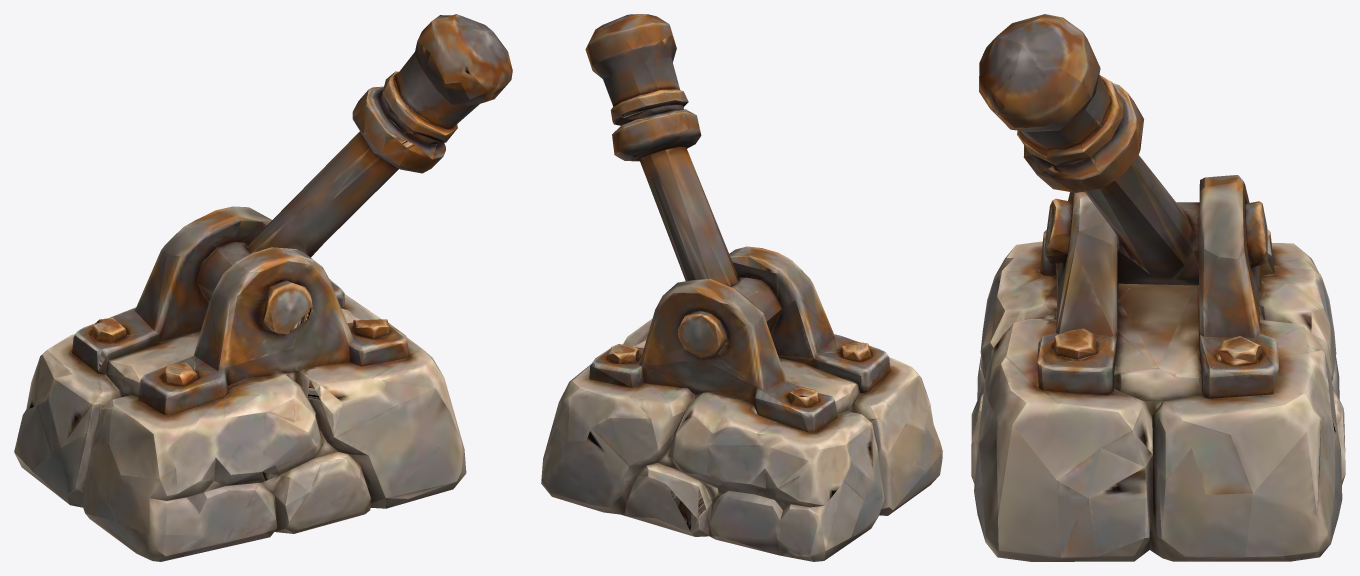
The model's file is floor-lever.low.glb.
3 views of the same model, side by side, from view 1: azimuth 30°, elevation 25°; view 2: azimuth 150°, elevation 25°; view 3: azimuth 270°, elevation 25° (orthographic). The views are drawn at different scales.
Parts seen in each view (by area): view 1: output_unwrapped; view 2: output_unwrapped; view 3: output_unwrapped.
Part boxes in pixels (left/top/right/bottom): output_unwrapped: left=14, top=14, right=512, bottom=561; output_unwrapped: left=541, top=14, right=942, bottom=561; output_unwrapped: left=971, top=14, right=1345, bottom=561.
Size of the model in its own units: 1.68 by 1.9 by 1.18.
1 material, 1 textured.
